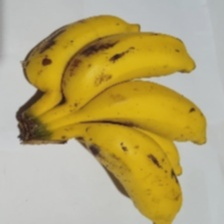banana: (49, 30, 194, 168)
